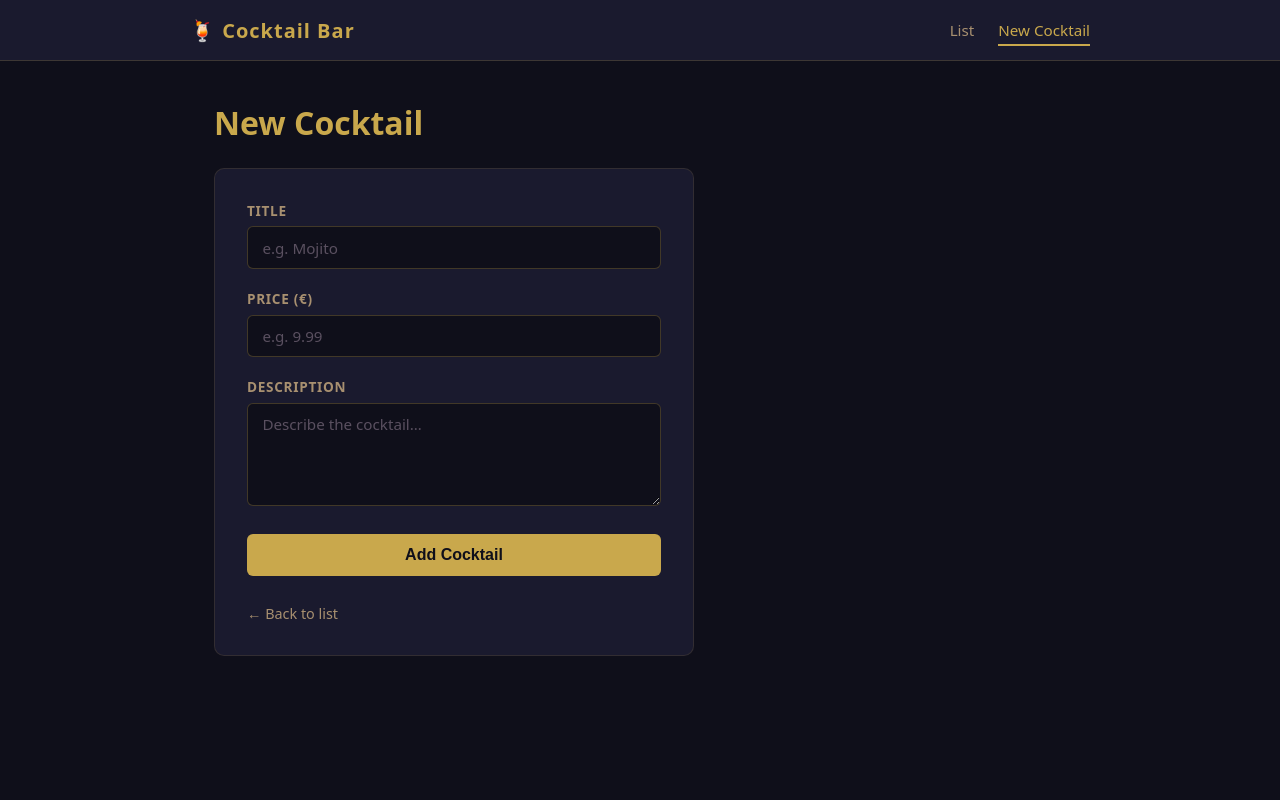
New Cocktail page › should show an error toast when the title already exists
The width and height of the screenshot is (1280, 800).
Type "Daiquiri" into the field with id "title" at [454, 248], box [247,226,661,269]
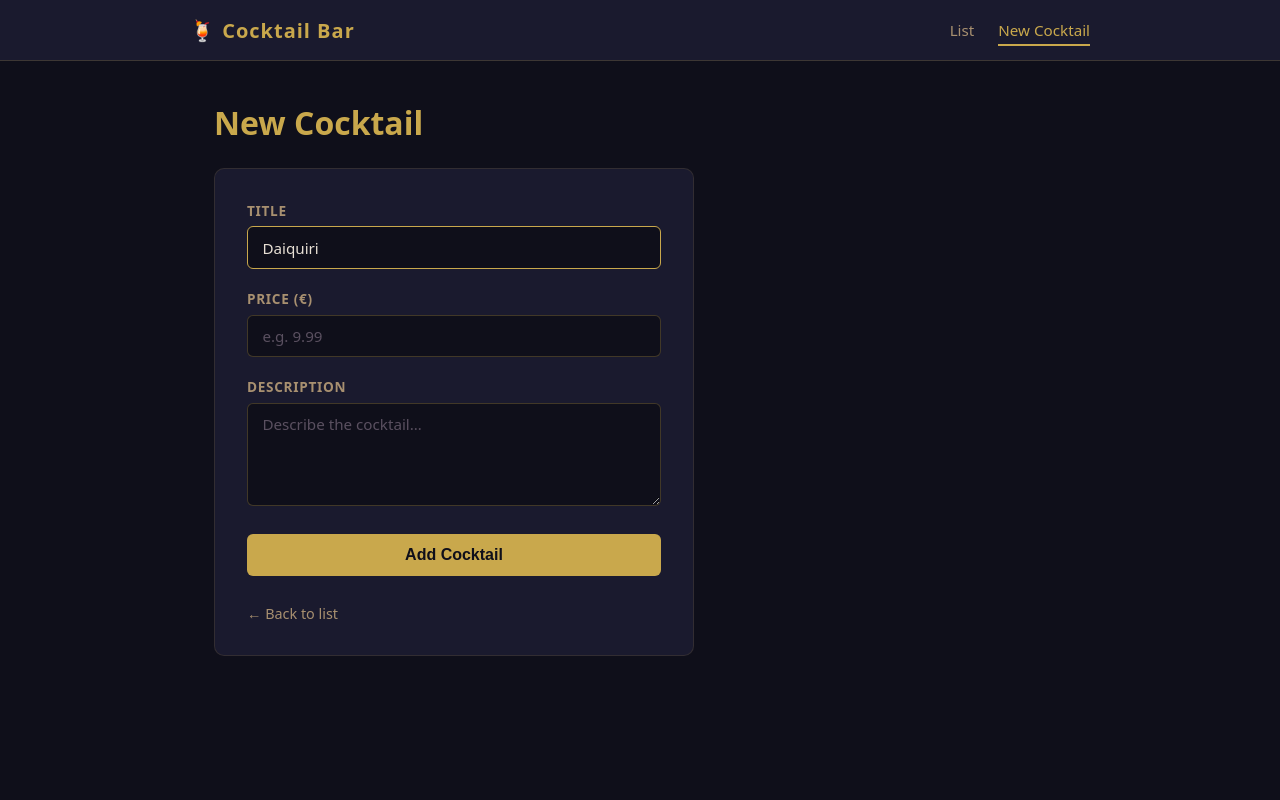
Type "9.0" into the number field labelled "Price (€)" at [454, 337], box [247,315,661,358]
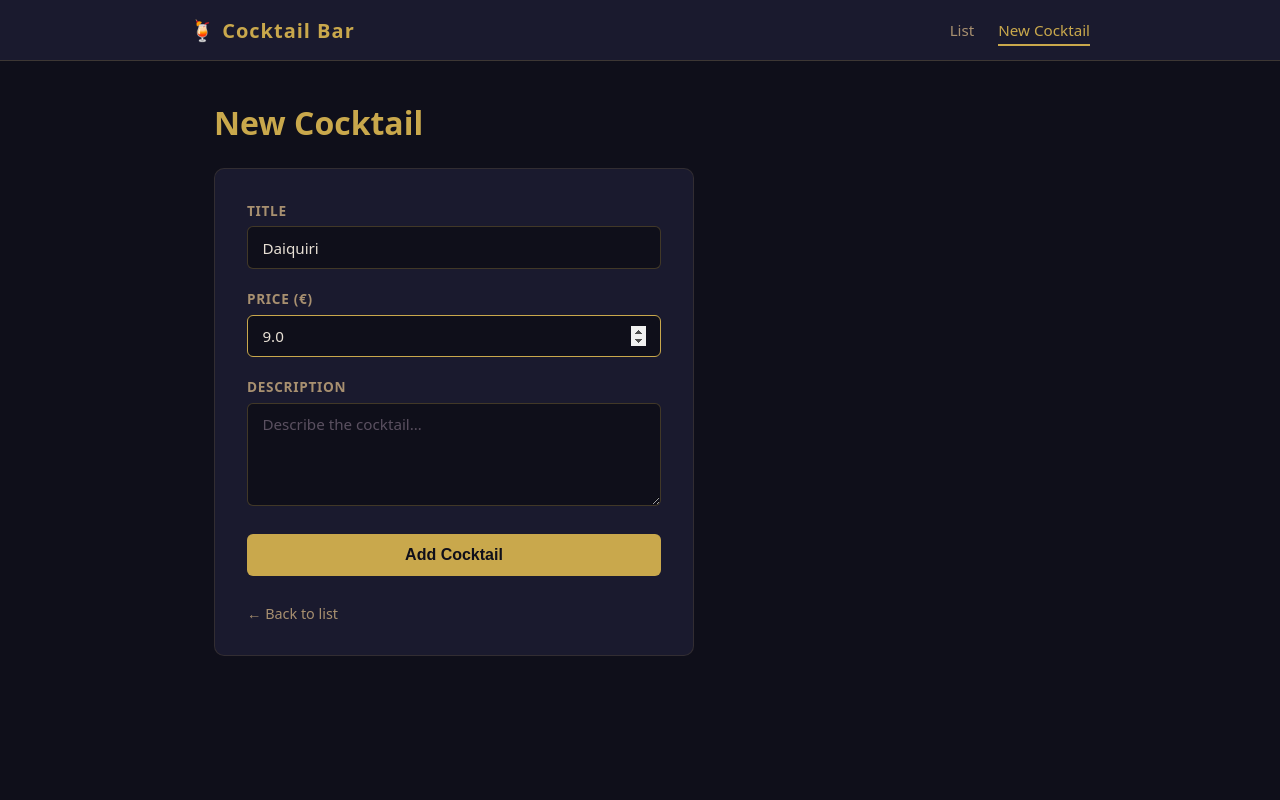
Type "Duplicate" into the text box with id "description" at [454, 455], box [247,403,661,506]
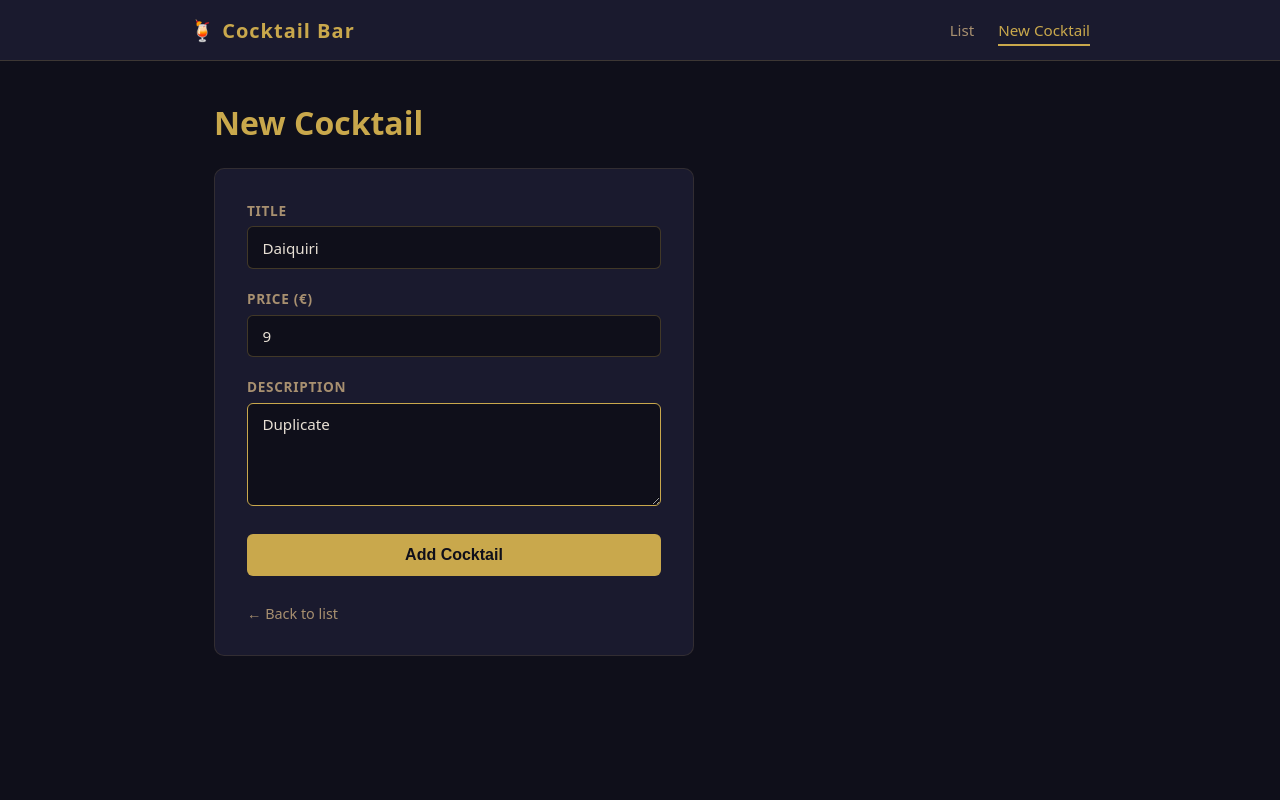
Click the submit button at [454, 555], box [247,534,661,576]
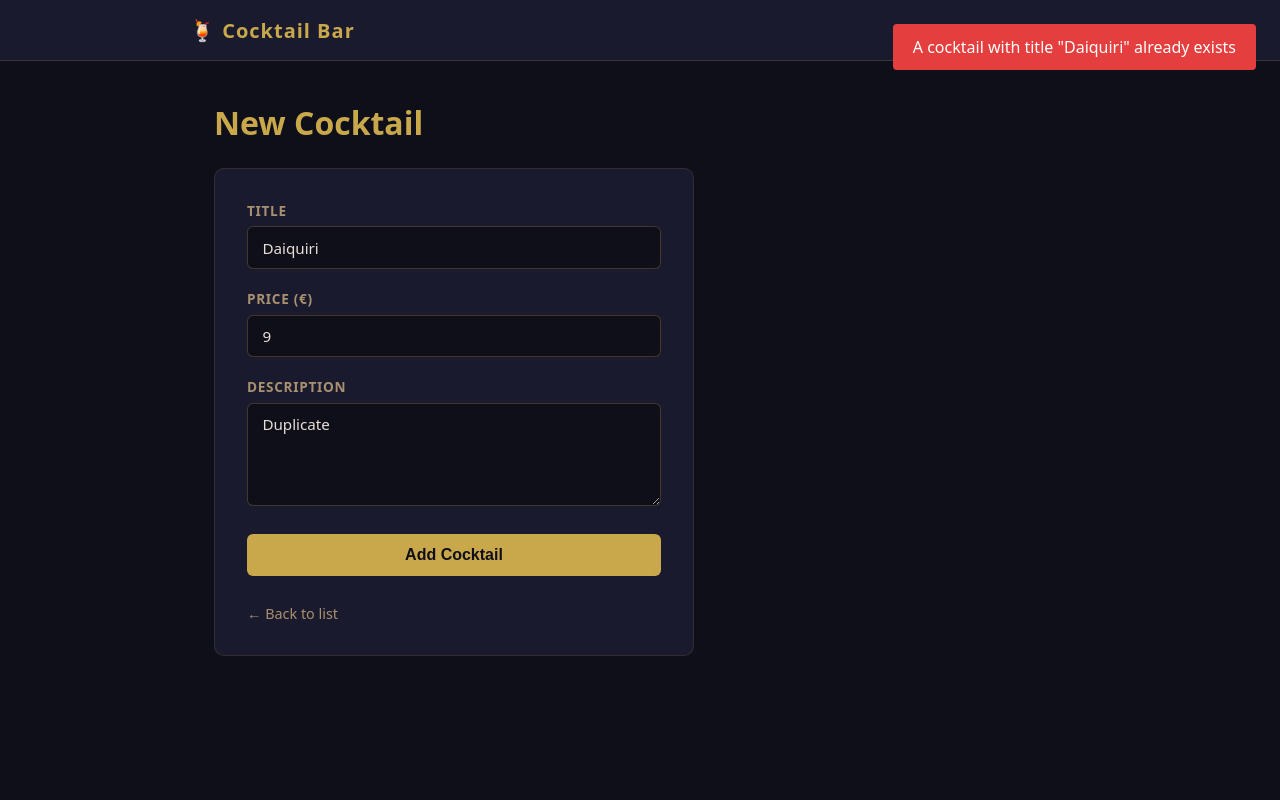
Check: the text with class "error" shows "already exists", box [913,36,1236,58]
